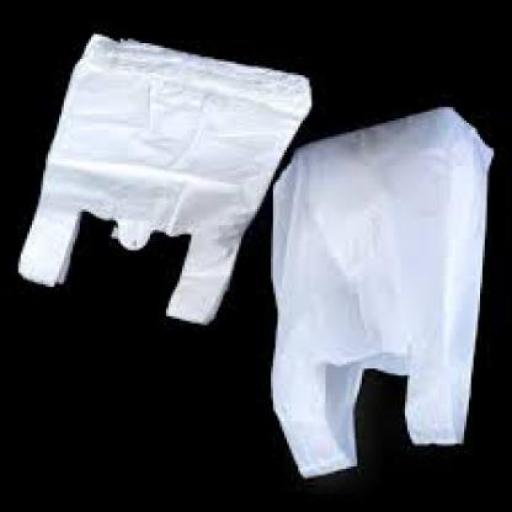plastic: (16, 34, 309, 328), (267, 107, 494, 483)
